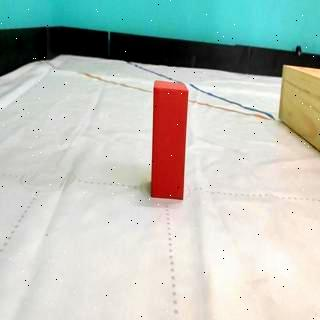redbox: (152, 78, 188, 200)
